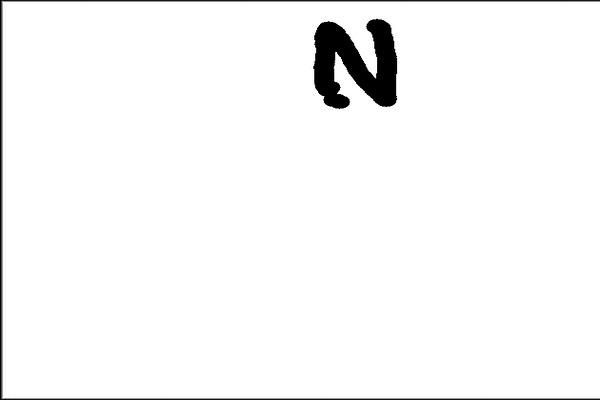N: (307, 11, 405, 115)
